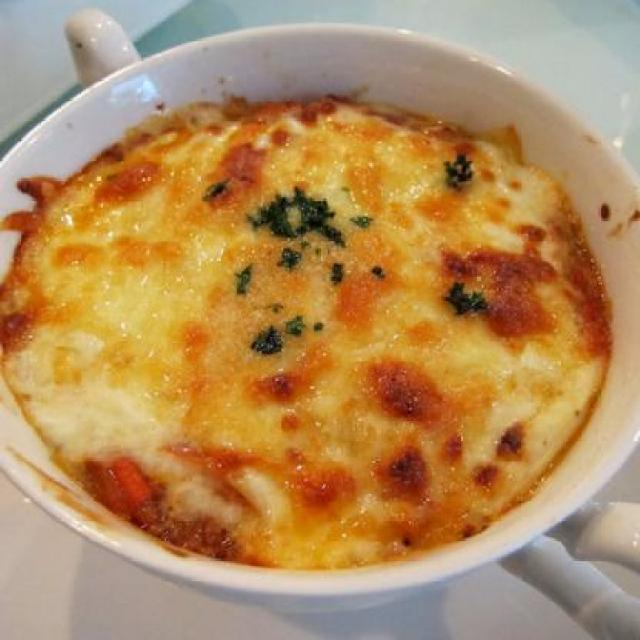Lasagna: (26, 99, 611, 584)
